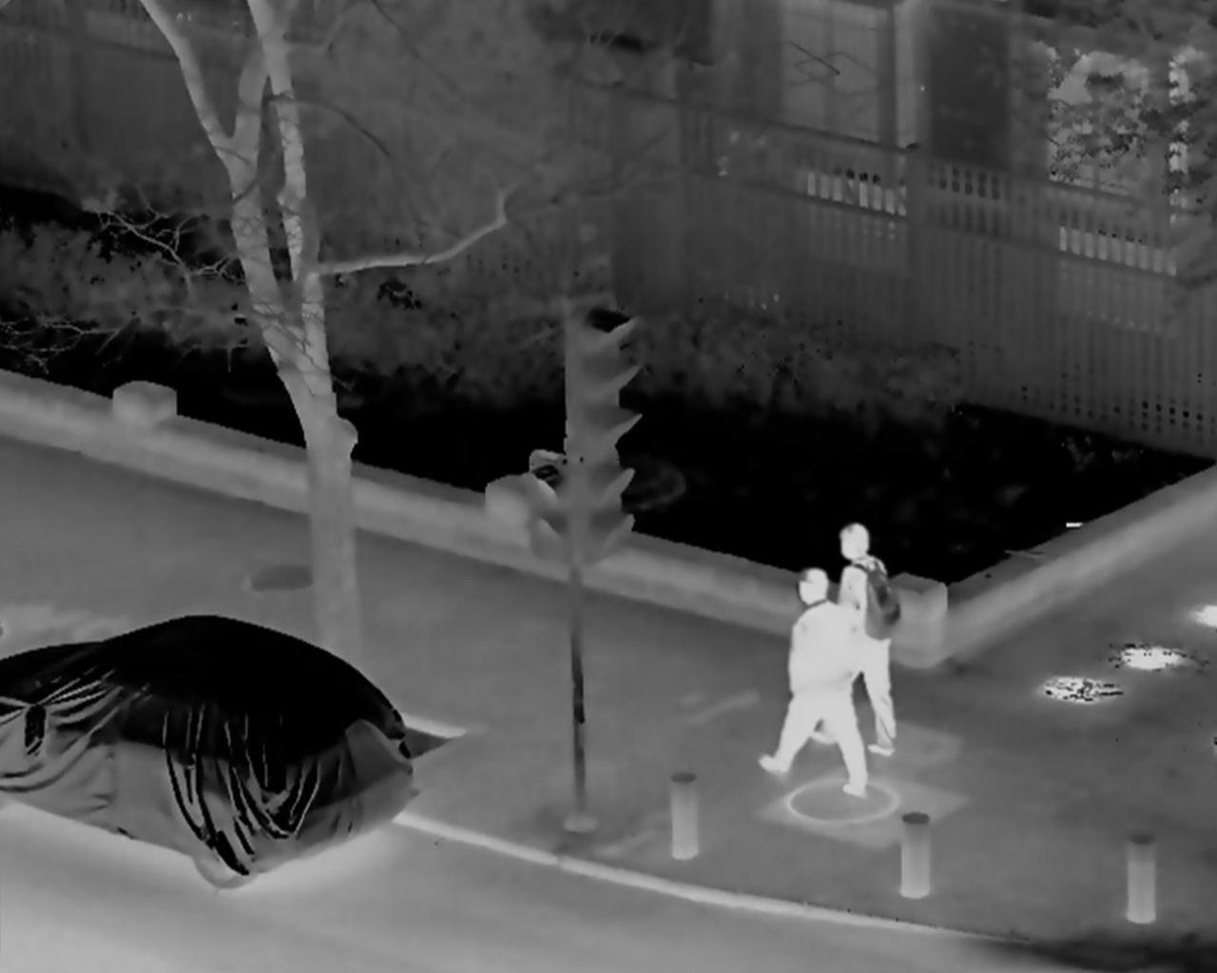person: (748, 569, 872, 796), (799, 525, 908, 757)
